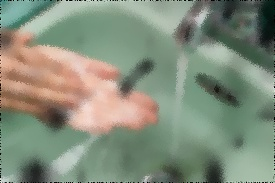washing hand: (22, 9, 259, 170)
